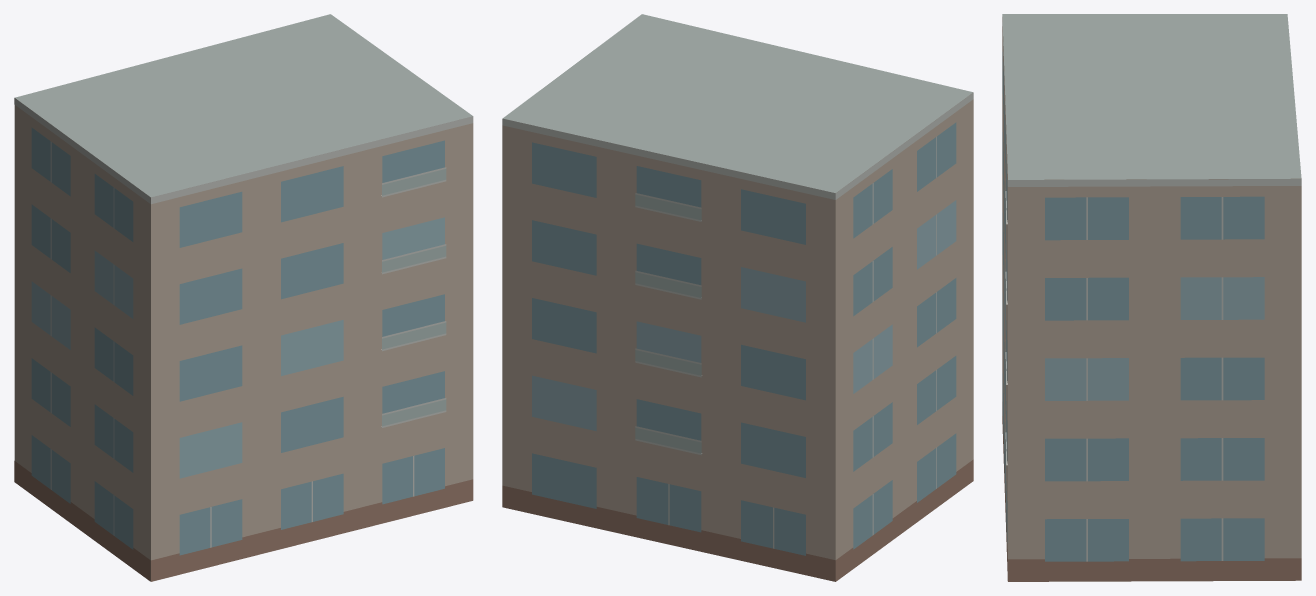
File: survey-upis-32832821.glb
The picture shows the model from 3 angles, left to right: view 1: azimuth 30°, elevation 25°; view 2: azimuth 150°, elevation 25°; view 3: azimuth 270°, elevation 25°; orthographic projection. The views are drawn at different scales.
Parts seen in each view (by area): view 1: survey-upis-32832821.tmp; view 2: survey-upis-32832821.tmp; view 3: survey-upis-32832821.tmp.
Boxes of the visible parts, x1,y1,x2,y2 form: survey-upis-32832821.tmp: (14, 14, 473, 581); survey-upis-32832821.tmp: (502, 14, 973, 581); survey-upis-32832821.tmp: (1002, 14, 1301, 581).
Bounding box in the file's own units: 12.19 × 13.75 × 9.29.
